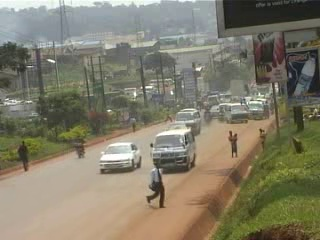Car: (98, 138, 144, 178), (165, 120, 196, 139), (206, 104, 221, 119)
Motorcycle: (71, 134, 87, 160), (201, 105, 212, 126), (217, 107, 225, 123)
